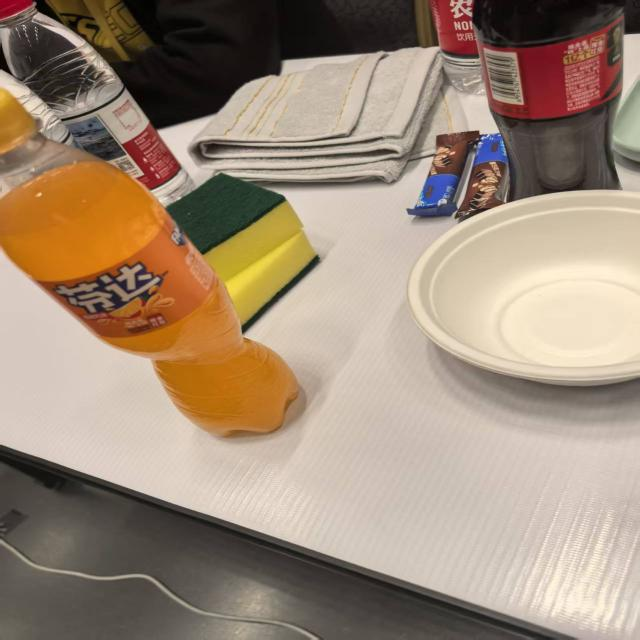orange: (46, 264, 182, 323)
